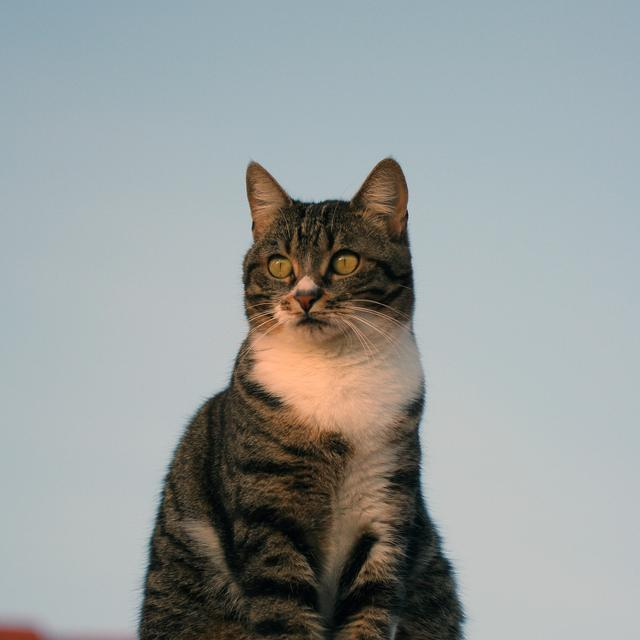animals: (252, 160, 398, 309)
